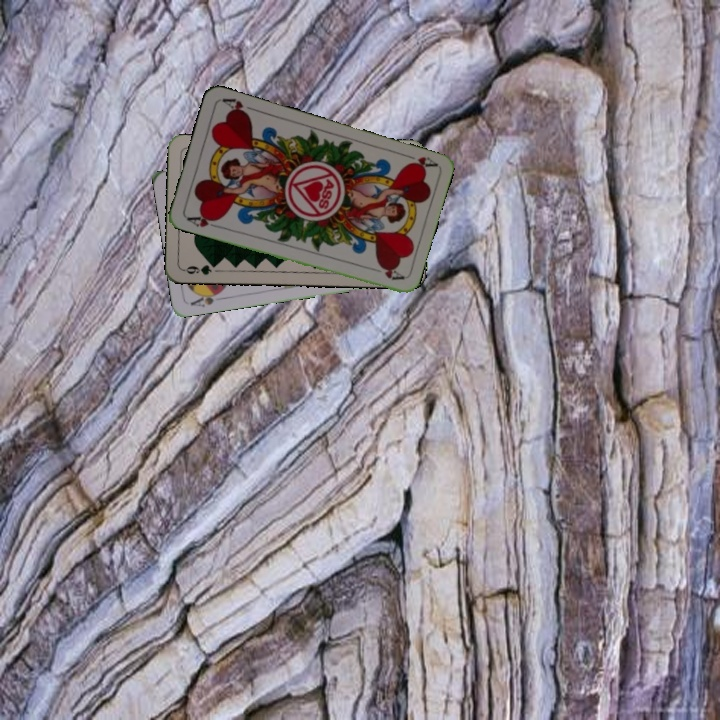G9: (180, 259, 221, 278)
HA: (399, 149, 439, 172), (182, 210, 223, 231)
SA: (186, 287, 226, 310)
